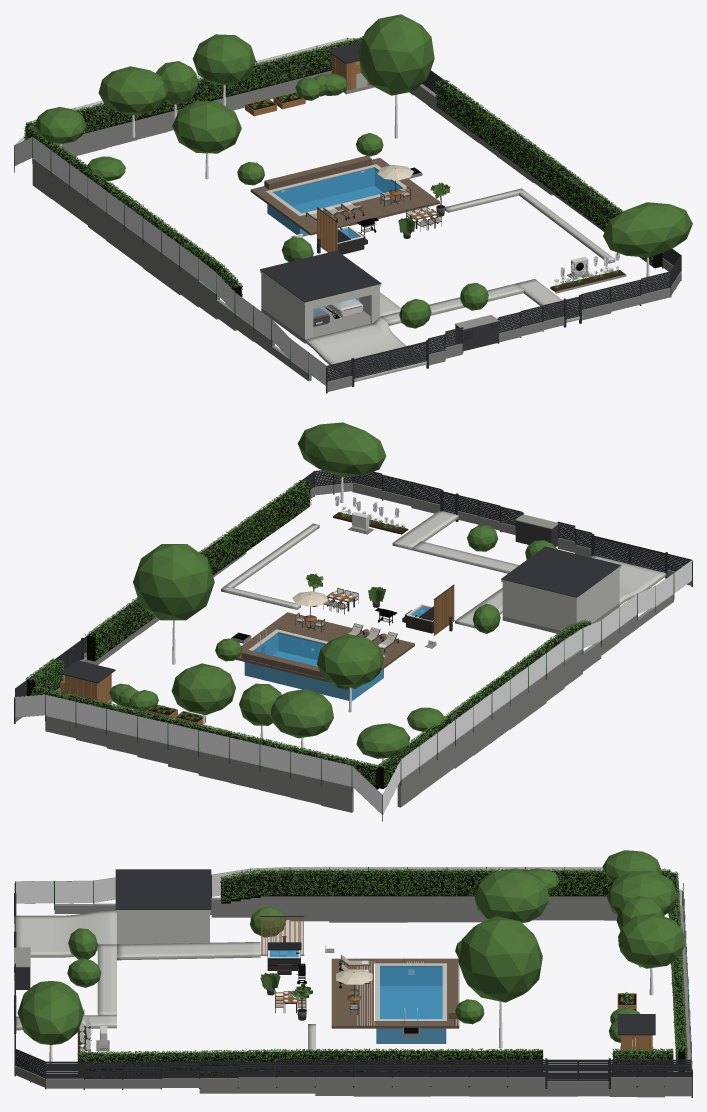
The model's file is okoli.glb.
The picture shows the model from 3 angles, top to bottom: view 1: azimuth 30°, elevation 25°; view 2: azimuth 150°, elevation 25°; view 3: azimuth 270°, elevation 25°; orthographic projection. The views are drawn at different scales.
Parts seen in each view (by area): view 1: okoli; view 2: okoli; view 3: okoli.
Boxes of the visible parts, left/top/right/bottom form: okoli: left=14, top=14, right=692, bottom=393; okoli: left=14, top=422, right=692, bottom=821; okoli: left=14, top=850, right=692, bottom=1097.
Size of the model in its own units: 29.34 by 10.83 by 42.77.
